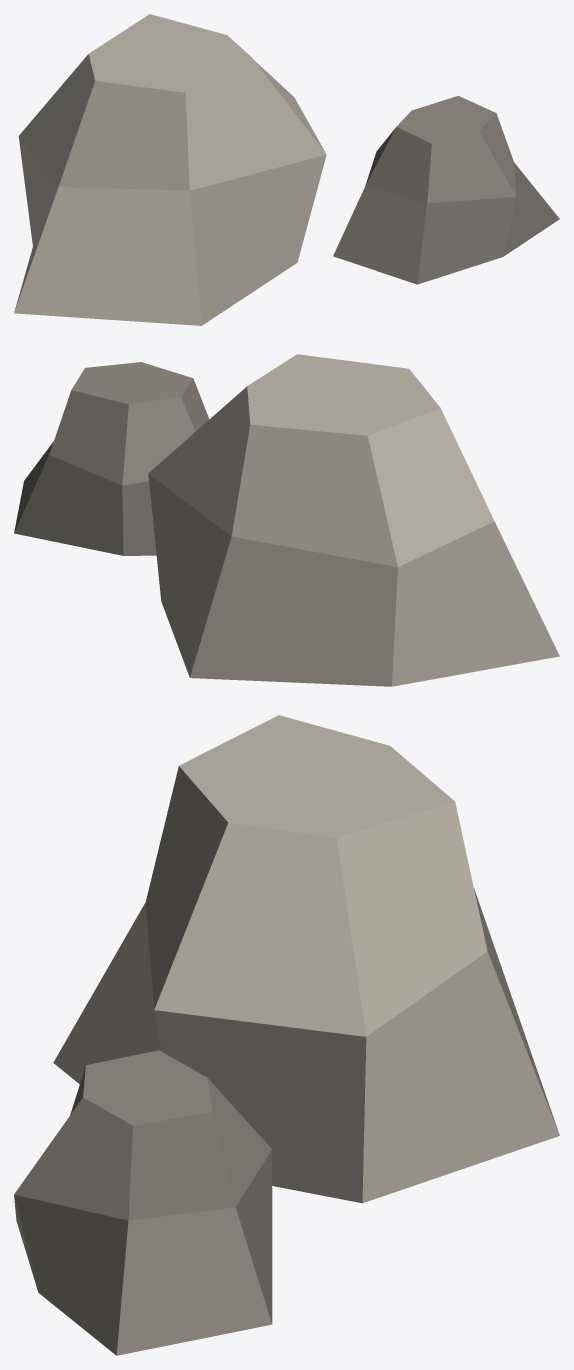
Rendered from Stone2.fbx.
The picture shows the model from 3 angles, top to bottom: view 1: azimuth 30°, elevation 25°; view 2: azimuth 150°, elevation 25°; view 3: azimuth 270°, elevation 25°; orthographic projection. The views are drawn at different scales.
Visible parts, largest first — view 1: Stone2; view 2: Stone2; view 3: Stone2.
Boxes of the visible parts, x1,y1,x2,y2 form: Stone2: [14, 14, 559, 325]; Stone2: [14, 354, 559, 686]; Stone2: [14, 715, 559, 1355].
Size of the model in its own units: 0.4514 by 0.1727 by 0.2656.
